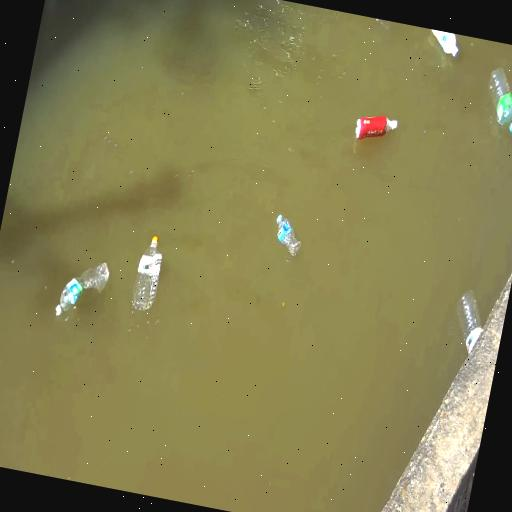plastic: (56, 263, 109, 316), (132, 236, 162, 310), (458, 290, 482, 353), (490, 68, 511, 131), (355, 116, 398, 140), (277, 215, 300, 256), (432, 29, 458, 56)
